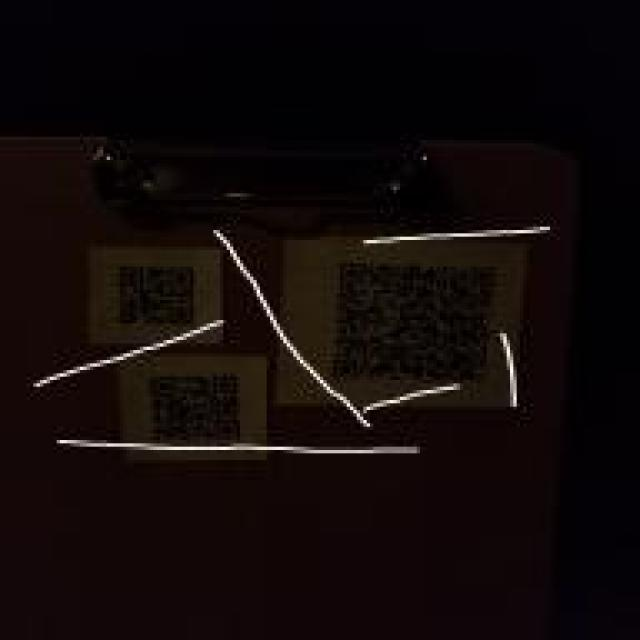QR_CODE: (325, 250, 507, 387), (144, 363, 254, 455), (105, 256, 207, 336)
